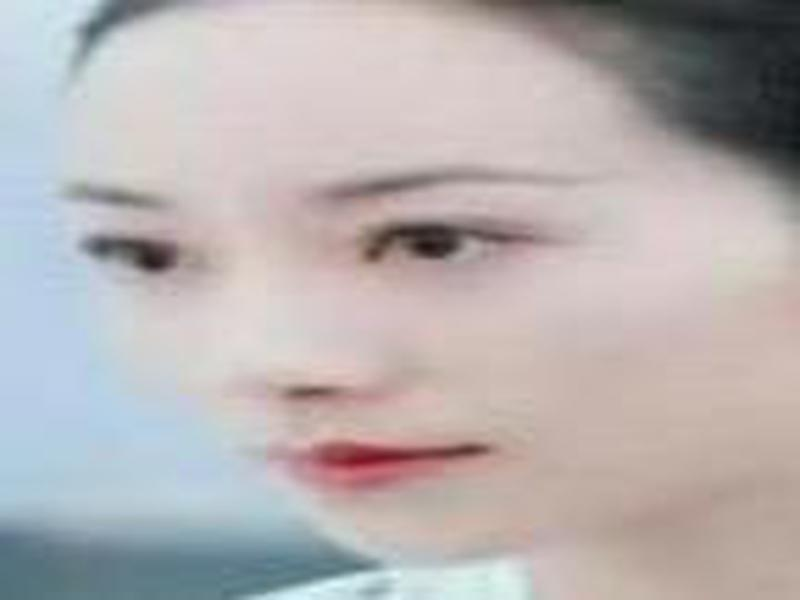without_mask: (68, 57, 799, 565)
